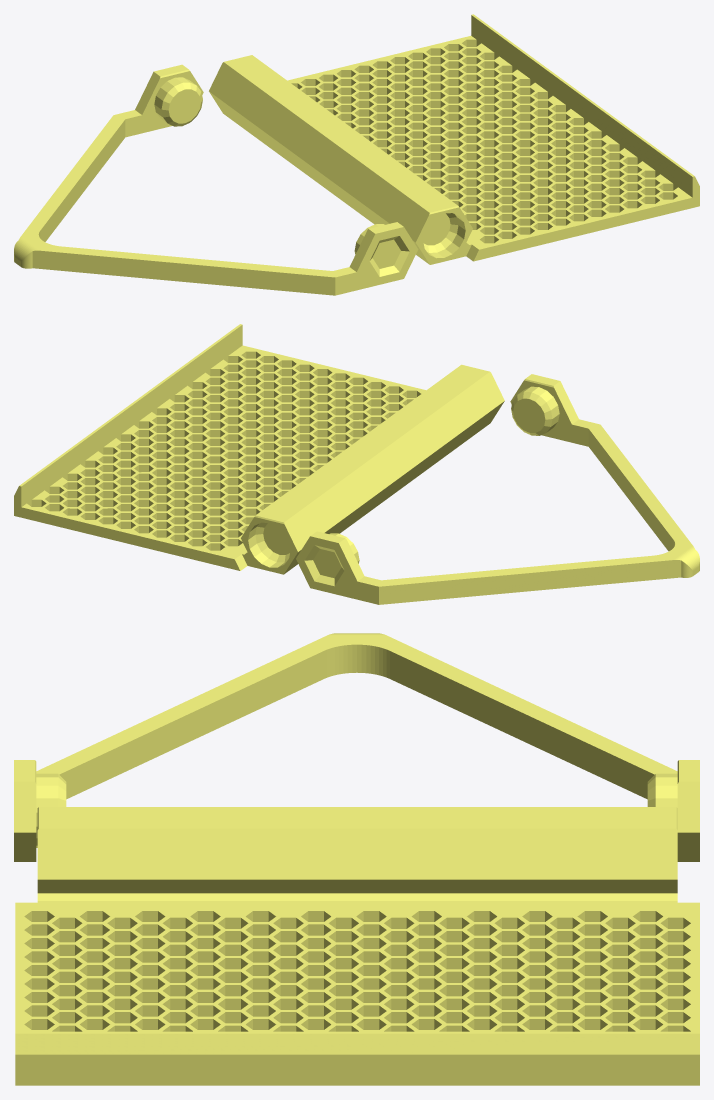
File: monitor-shelf.glb
3 views of the same model, one above another, from view 1: azimuth 30°, elevation 25°; view 2: azimuth 150°, elevation 25°; view 3: azimuth 270°, elevation 25° (orthographic). The views are drawn at different scales.
Visible parts, largest first — view 1: Longer front lip version - for monitors with curved or thick, Support_ONLY.stl_fil1; view 2: Longer front lip version - for monitors with curved or thick, Support_ONLY.stl_fil1; view 3: Longer front lip version - for monitors with curved or thick, Support_ONLY.stl_fil1.
Part boxes in pixels (box(x1,y1,x2,y2)): Longer front lip version - for monitors with curved or thick: box(209, 14, 699, 264); Support_ONLY.stl_fil1: box(14, 64, 418, 295); Longer front lip version - for monitors with curved or thick: box(14, 324, 504, 574); Support_ONLY.stl_fil1: box(296, 374, 699, 604); Longer front lip version - for monitors with curved or thick: box(15, 807, 699, 1085); Support_ONLY.stl_fil1: box(14, 633, 699, 861).
Size of the model in its own units: 0.2301 by 0.02 by 0.1546.
